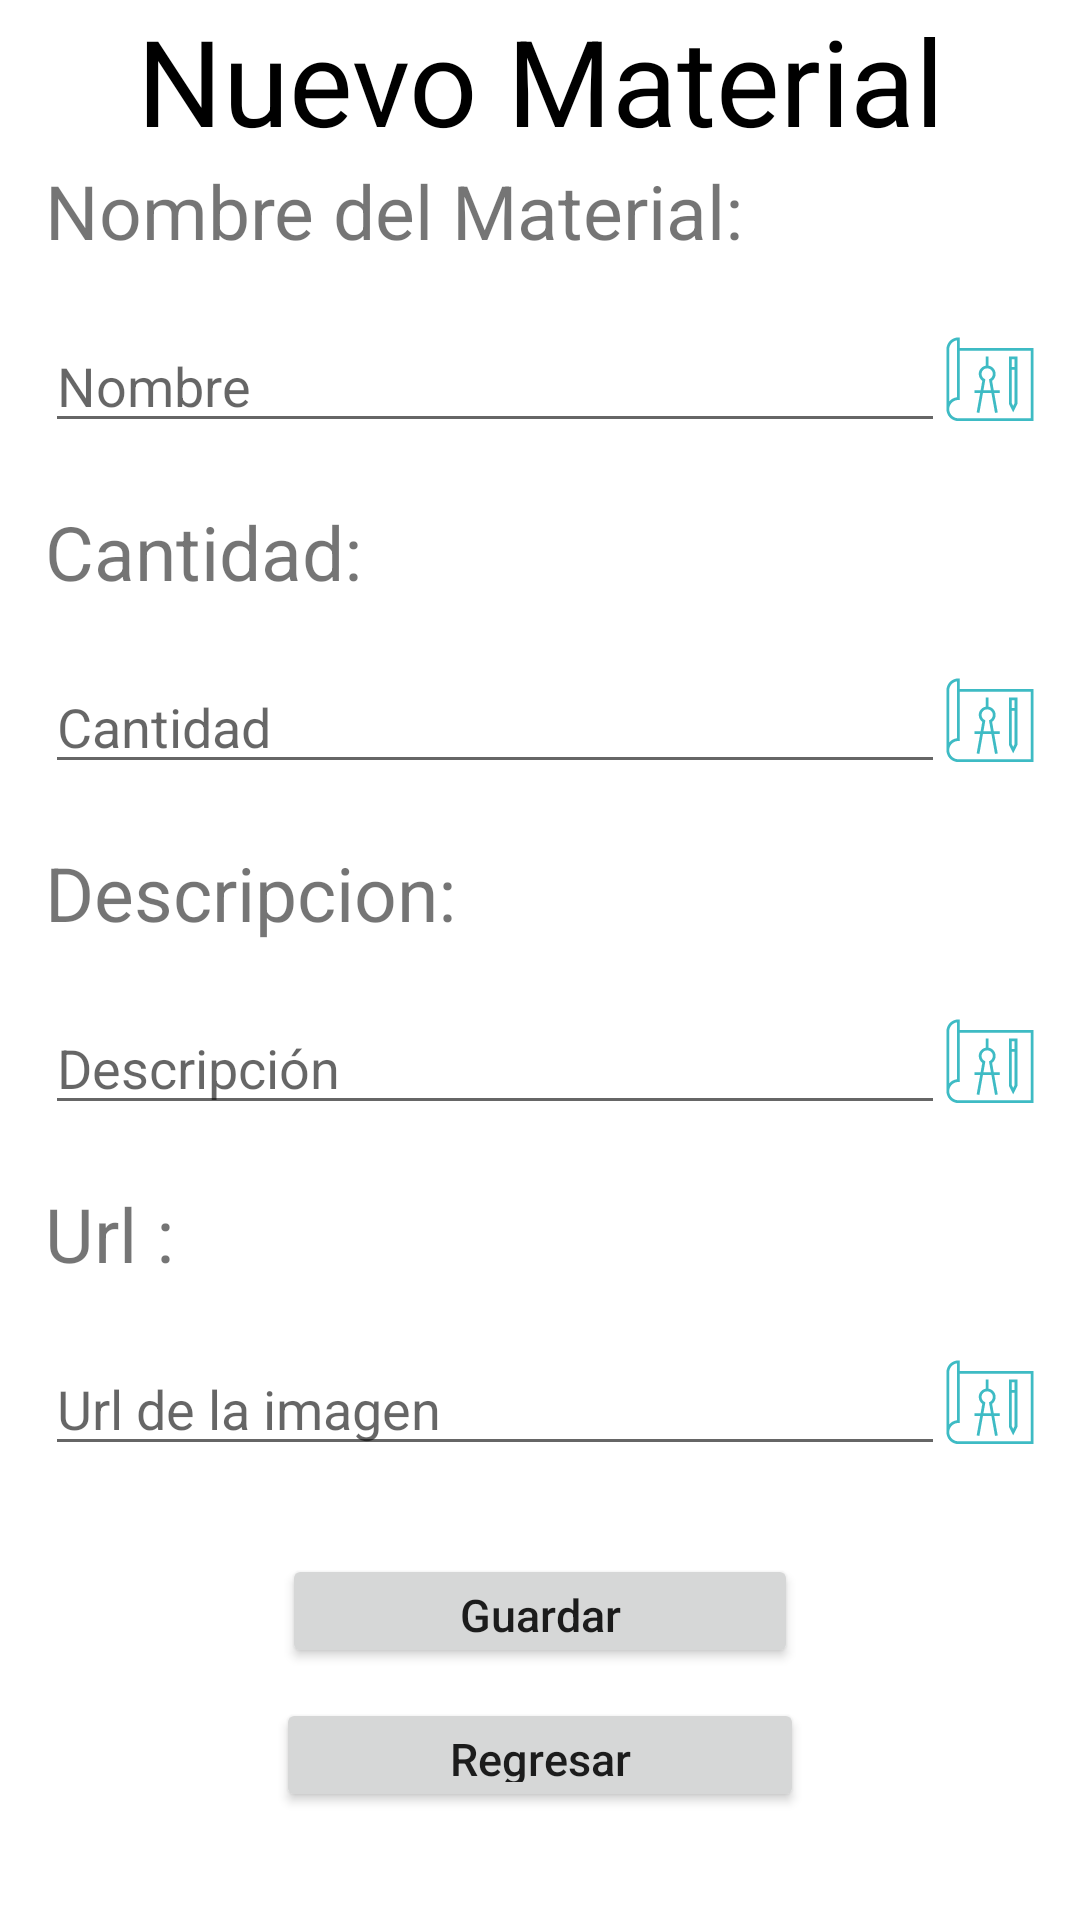

Point at icon controls on the screen. Image size 1080 × 1920, points as point (x, y).
construccion: point (990, 379), point (990, 720), point (990, 1061), point (990, 1402)
